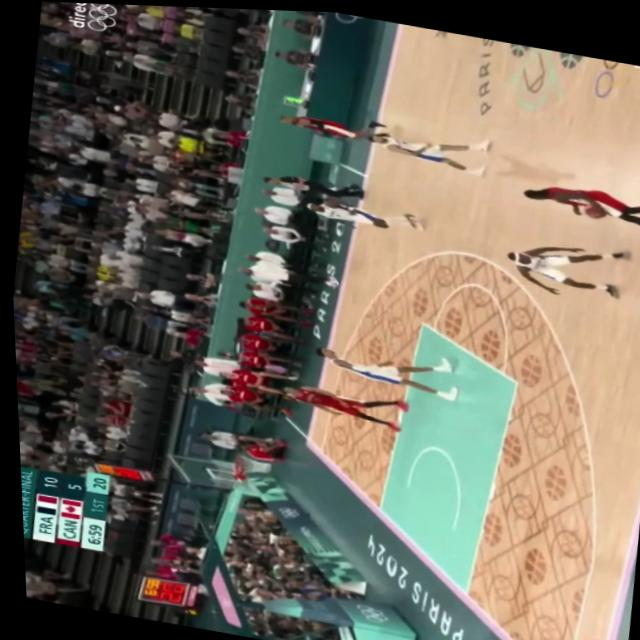ball_handler: (517, 172, 640, 238)
